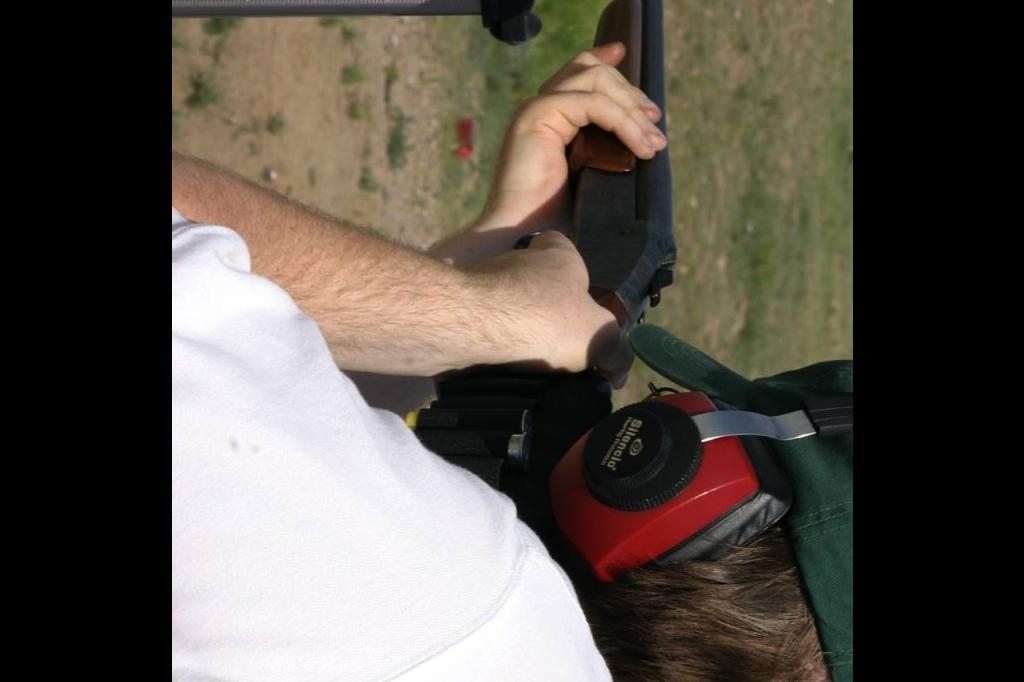gun: (536, 0, 679, 416)
